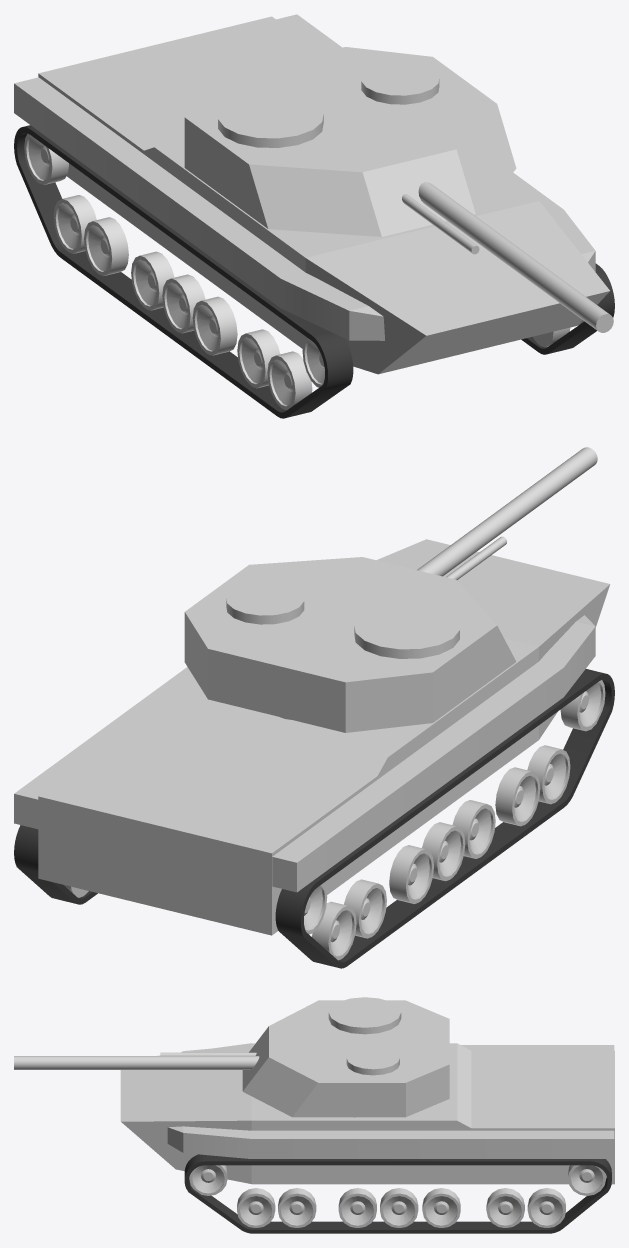
Rendered from TestIFV.fbx.
3 renders of one model, top to bottom at view 1: azimuth 30°, elevation 25°; view 2: azimuth 150°, elevation 25°; view 3: azimuth 270°, elevation 25°, orthographic. The views are drawn at different scales.
Parts seen in each view (by area): view 1: 立方体.014, Turrel, 立方体.013; view 2: 立方体.014, Turrel, 立方体.013; view 3: 立方体.014, Turrel, 立方体.013.
Boxes of the visible parts, x1,y1,x2,y2 form: 立方体.014: [14, 14, 609, 410]; Turrel: [184, 47, 613, 332]; 立方体.013: [14, 125, 614, 418]; 立方体.014: [14, 539, 610, 960]; Turrel: [184, 447, 597, 732]; 立方体.013: [14, 669, 614, 968]; 立方体.014: [120, 1043, 614, 1227]; Turrel: [14, 997, 449, 1117]; 立方体.013: [184, 1154, 611, 1233].
Bounding box in the file's own units: 542 × 401 × 1446.
Materials: 2 (1 with a texture image).
